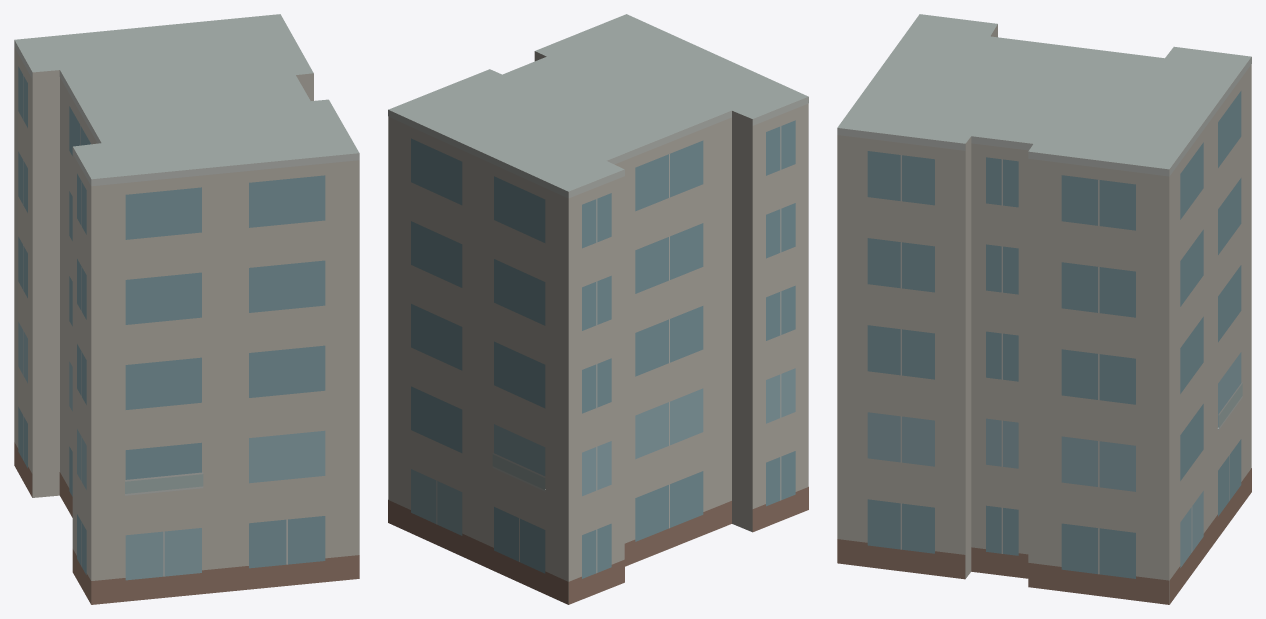
Rendered from survey-upis-32973267.glb.
3 views of the same model, side by side, from view 1: azimuth 30°, elevation 25°; view 2: azimuth 150°, elevation 25°; view 3: azimuth 270°, elevation 25° (orthographic). The views are drawn at different scales.
Visible parts, largest first — view 1: survey-upis-32973267.tmp; view 2: survey-upis-32973267.tmp; view 3: survey-upis-32973267.tmp.
Part boxes in pixels (x1,y1,x2,y2): survey-upis-32973267.tmp: [14, 14, 359, 604]; survey-upis-32973267.tmp: [388, 14, 808, 604]; survey-upis-32973267.tmp: [837, 14, 1251, 604].
Bounding box in the file's own units: 11.34 × 14.8 × 12.78.
